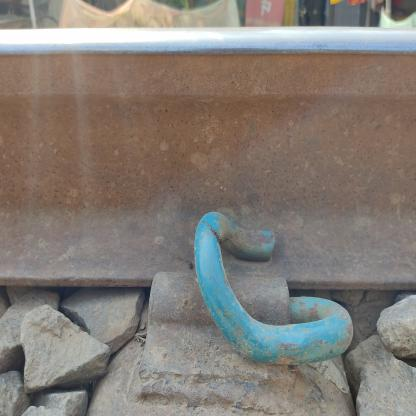Non Defective 1: (105, 123, 377, 415)
